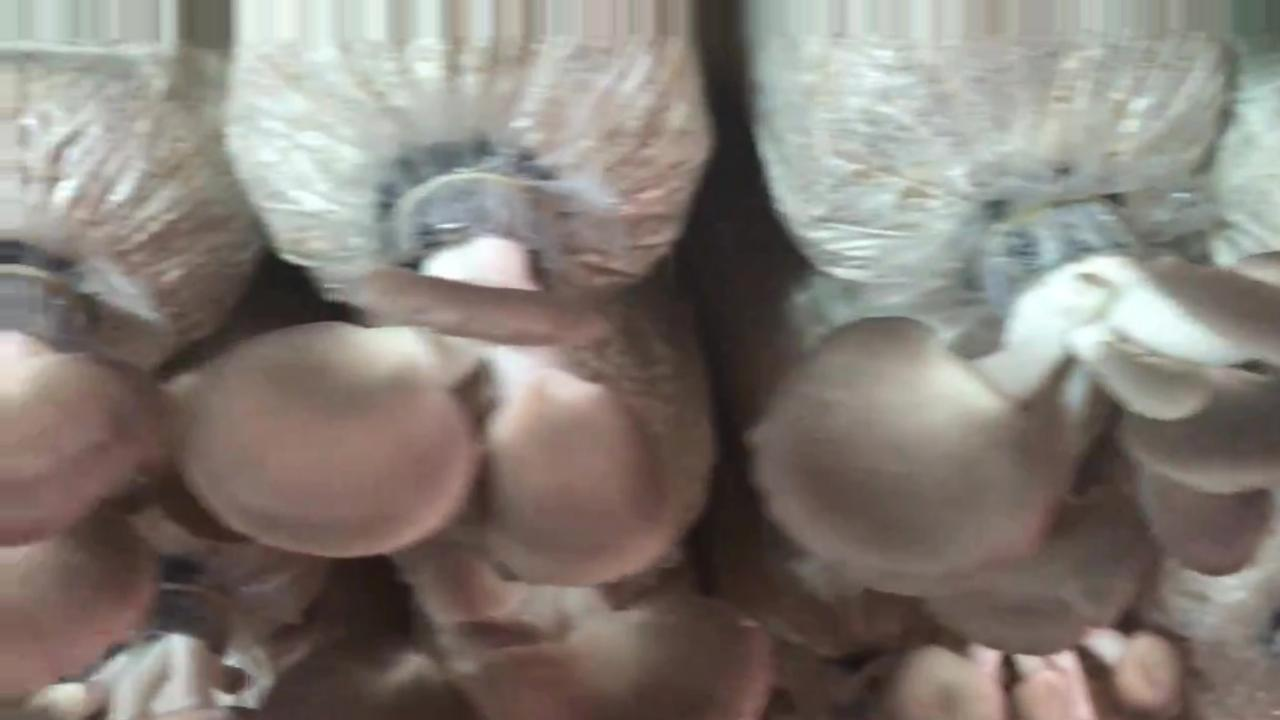nam: (757, 206, 1280, 656), (181, 173, 674, 582), (263, 580, 773, 717), (1, 252, 168, 542), (6, 556, 275, 720), (893, 632, 1174, 720)
